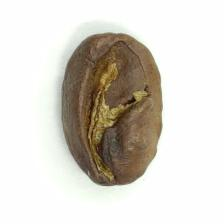NG: (75, 37, 154, 189)
